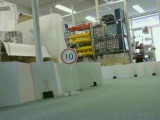speed_10: (59, 47, 78, 65)
